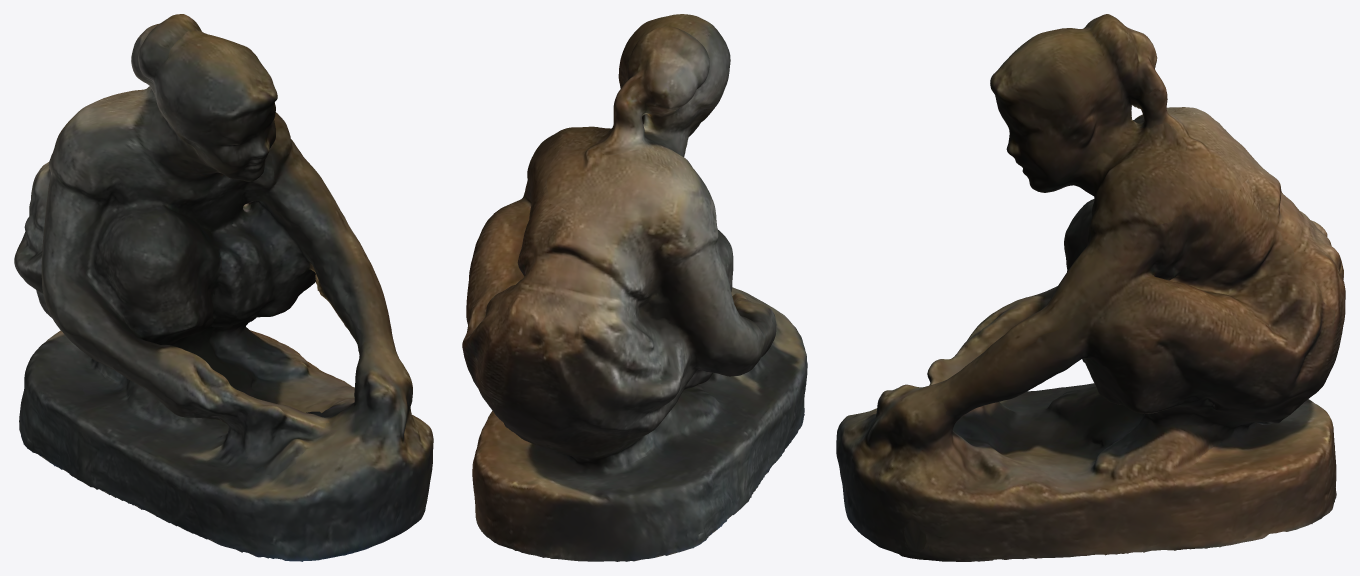
The model's file is oyang-dapitana.glb.
3 renders of one model, left to right at view 1: azimuth 30°, elevation 25°; view 2: azimuth 150°, elevation 25°; view 3: azimuth 270°, elevation 25°, orthographic. The views are drawn at different scales.
Visible parts, largest first — view 1: oyang-dapitana; view 2: oyang-dapitana; view 3: oyang-dapitana.
Part boxes in pixels (x1,y1,x2,y2): oyang-dapitana: [14, 14, 433, 561]; oyang-dapitana: [462, 14, 807, 561]; oyang-dapitana: [836, 14, 1345, 561].
Bounding box in the file's own units: 0.6341 × 1 × 0.9938.
2 materials, 2 textured.
